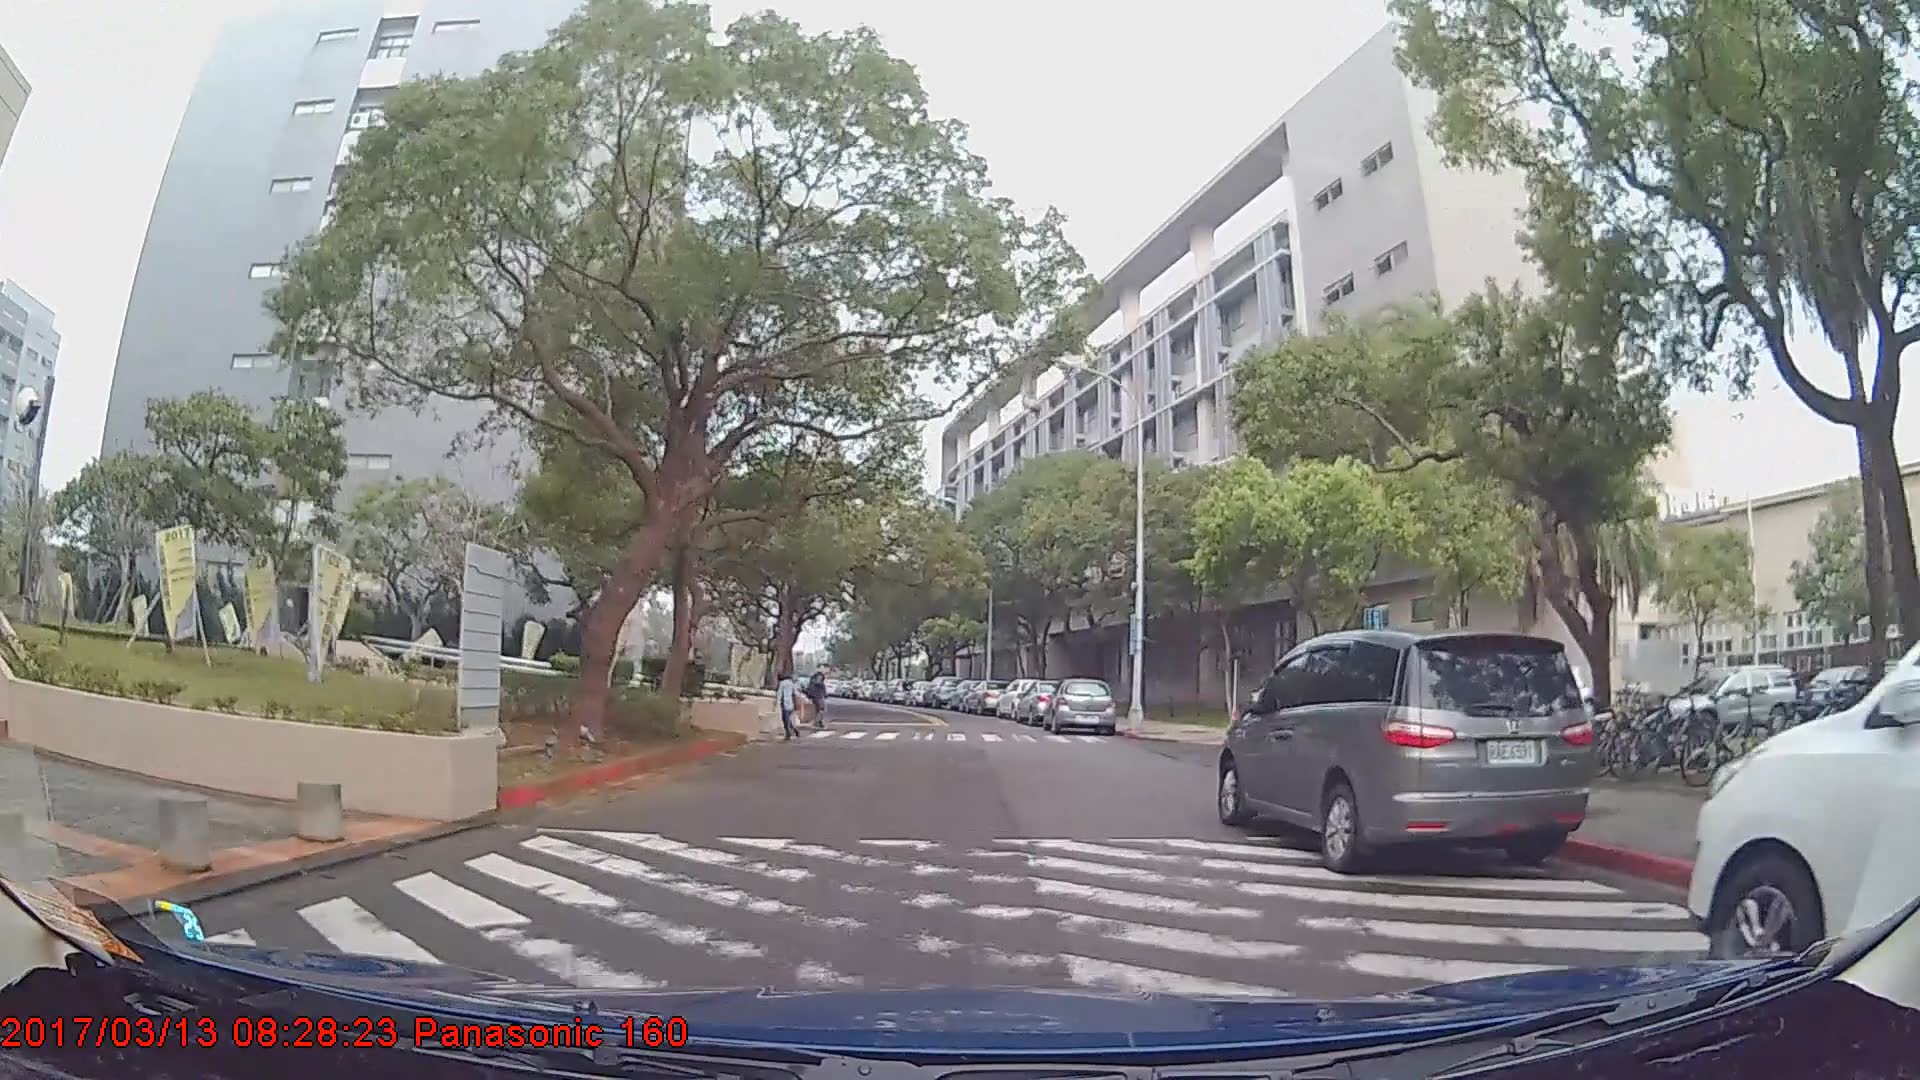pedestrian: (776, 673, 805, 744), (807, 661, 833, 734)
vehicle: (1219, 627, 1598, 880), (1685, 634, 1920, 1001), (1668, 664, 1804, 744), (1796, 662, 1883, 721), (1048, 678, 1117, 737), (921, 675, 962, 709), (965, 682, 1007, 715)
